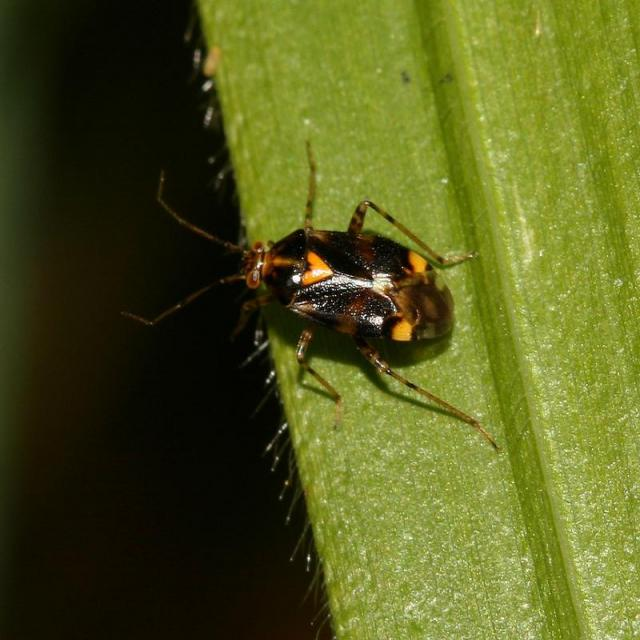Miridae-Adult-: (111, 153, 491, 426)
